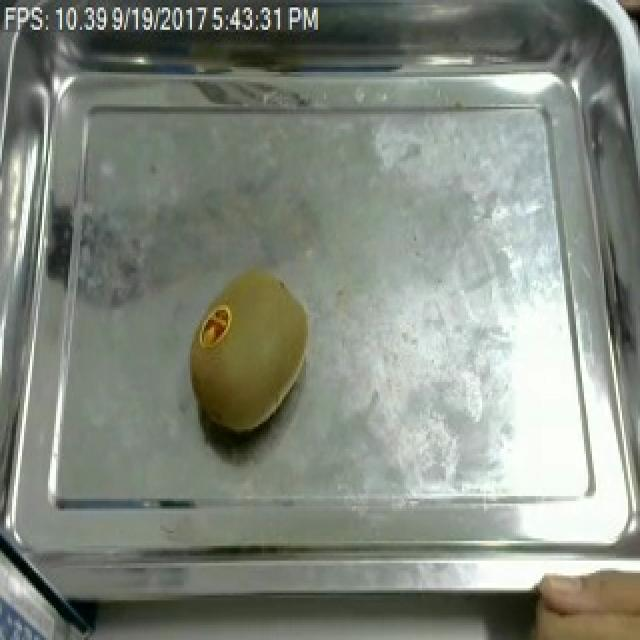Fruit: (182, 261, 316, 439), (510, 545, 640, 640)
